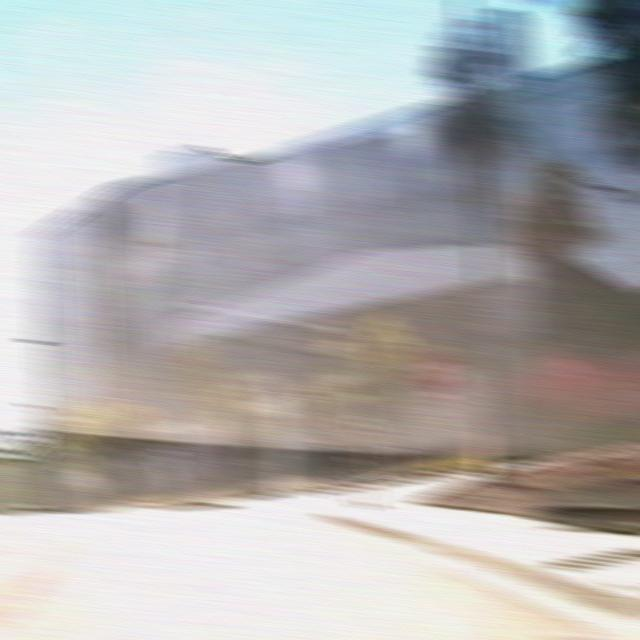stop_sign: (416, 346, 461, 395)
